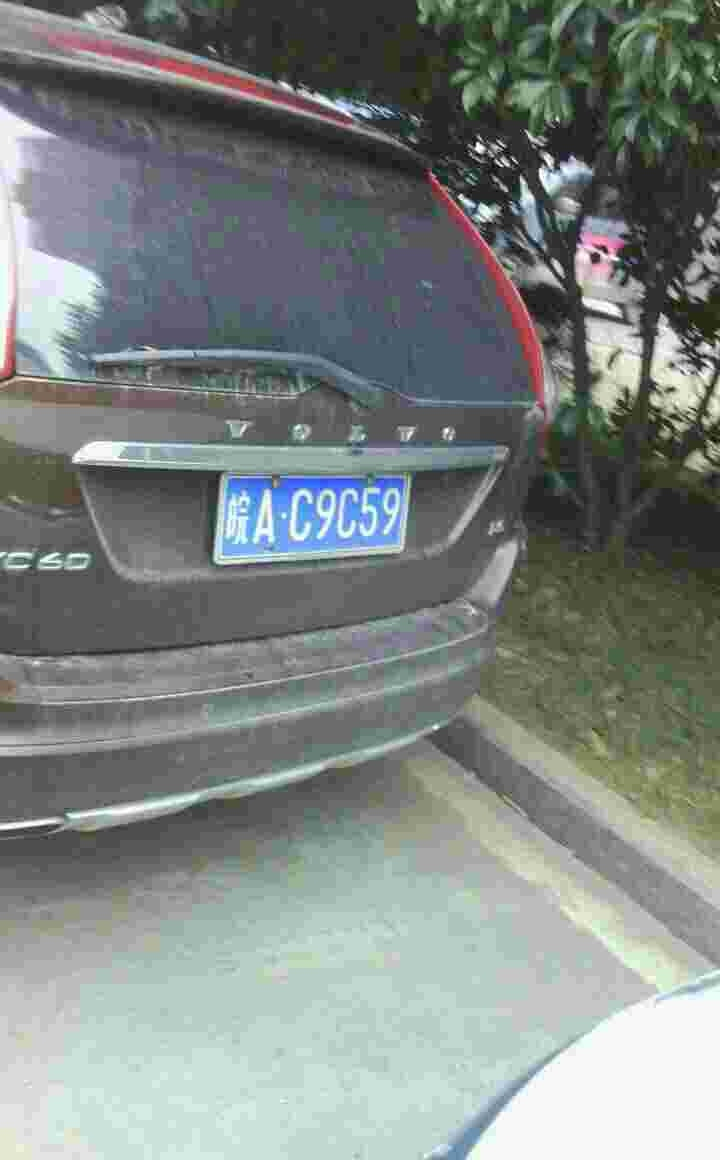license_plate: (225, 475, 402, 565)
